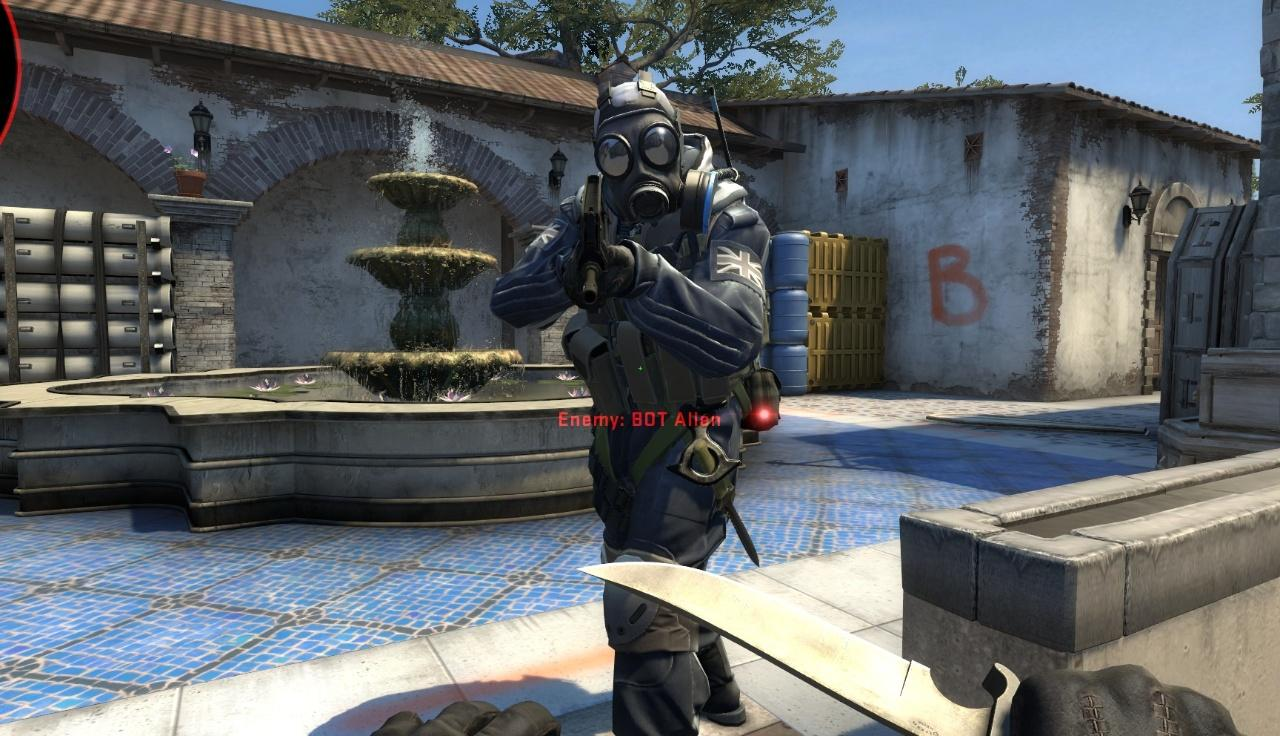ct: (513, 67, 773, 717)
cthead: (594, 74, 689, 228)
